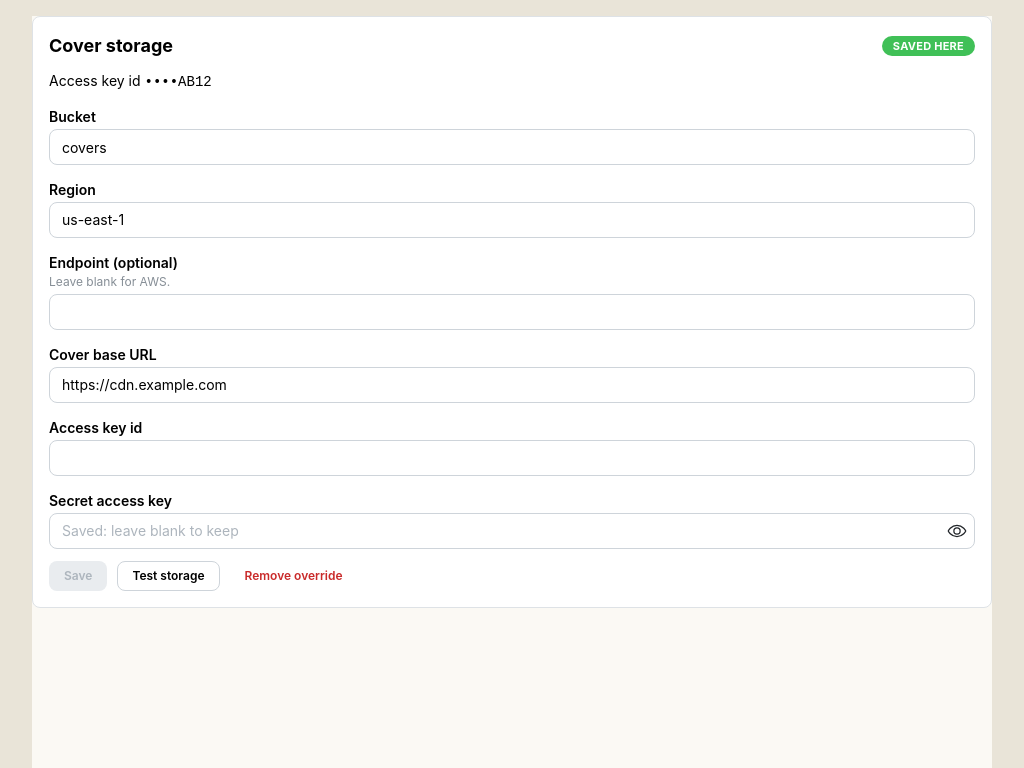
CoverStorageCard › explains disabled buttons once edited without the key id
Check: the text "Re-enter the access key id" is not shown
Replace the text in the field labelled "Bucket" with "other" at (512, 147), box [49,129,975,165]
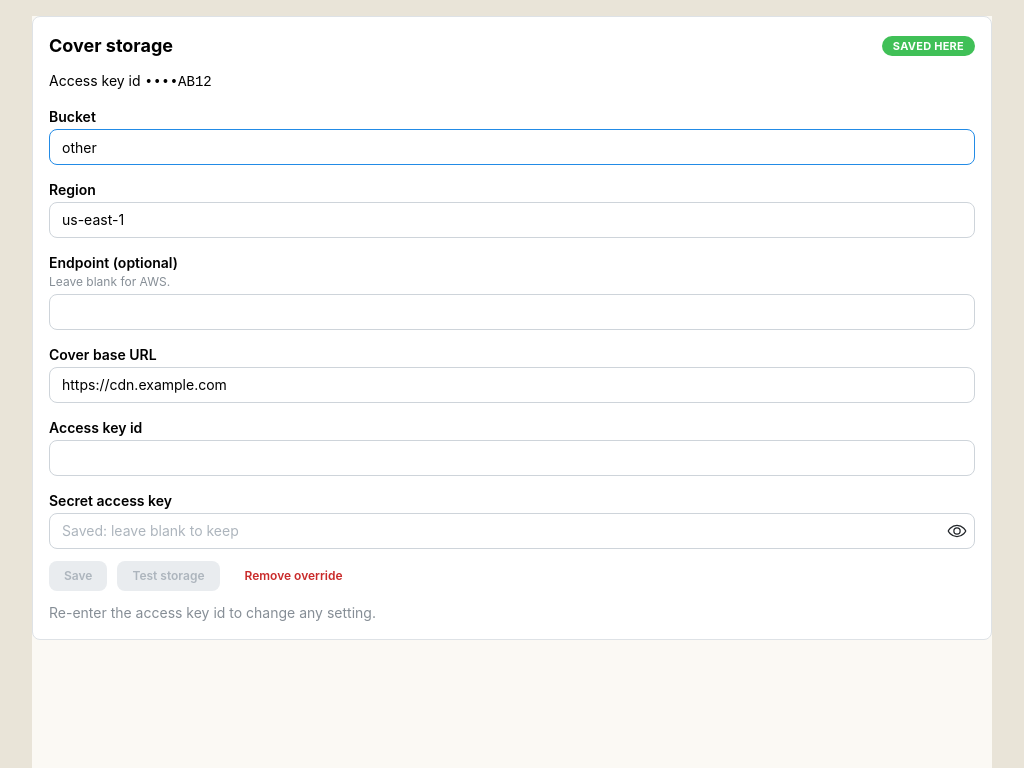
Check: the text "Re-enter the access key id to change any setting." is shown, box [49,604,376,621]
Type "AKIA" into the field labelled "Access key id" at (512, 458), box [49,440,975,476]
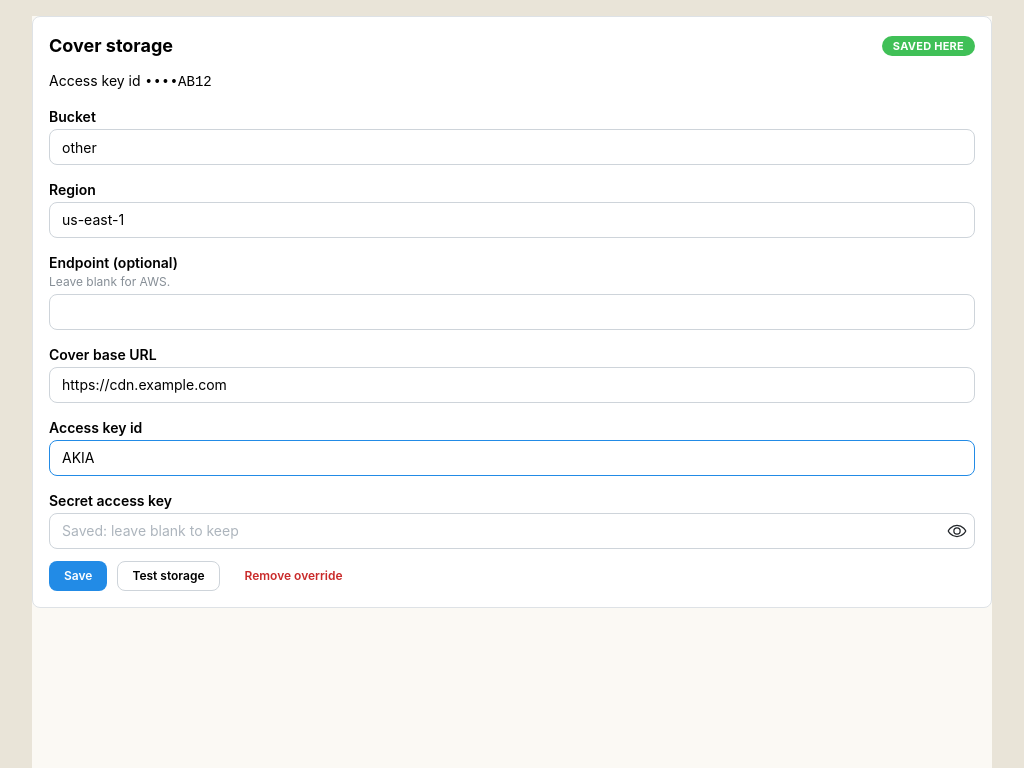
Check: the text "Re-enter the access key id" is gone
